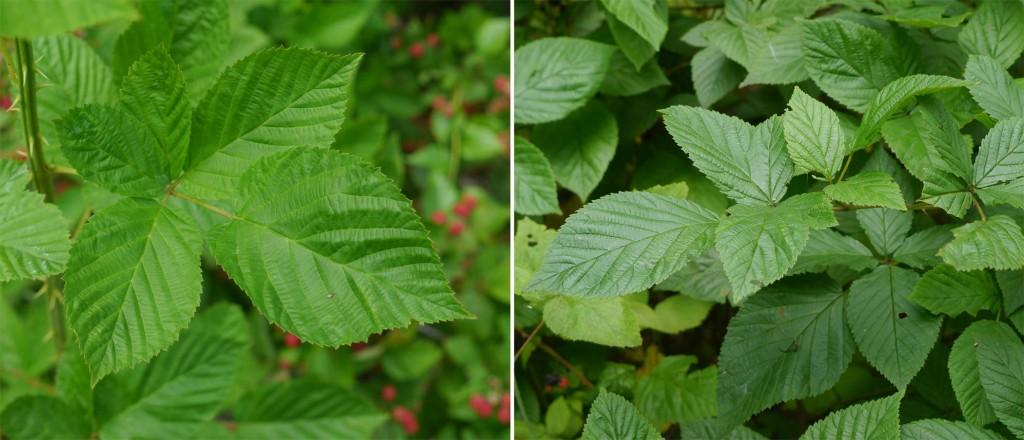Raspberry leaf: (200, 152, 480, 349), (59, 195, 205, 387), (716, 267, 860, 422), (525, 192, 724, 303), (190, 45, 364, 170), (646, 104, 798, 212), (837, 257, 938, 392), (706, 197, 821, 312), (786, 84, 848, 182)
